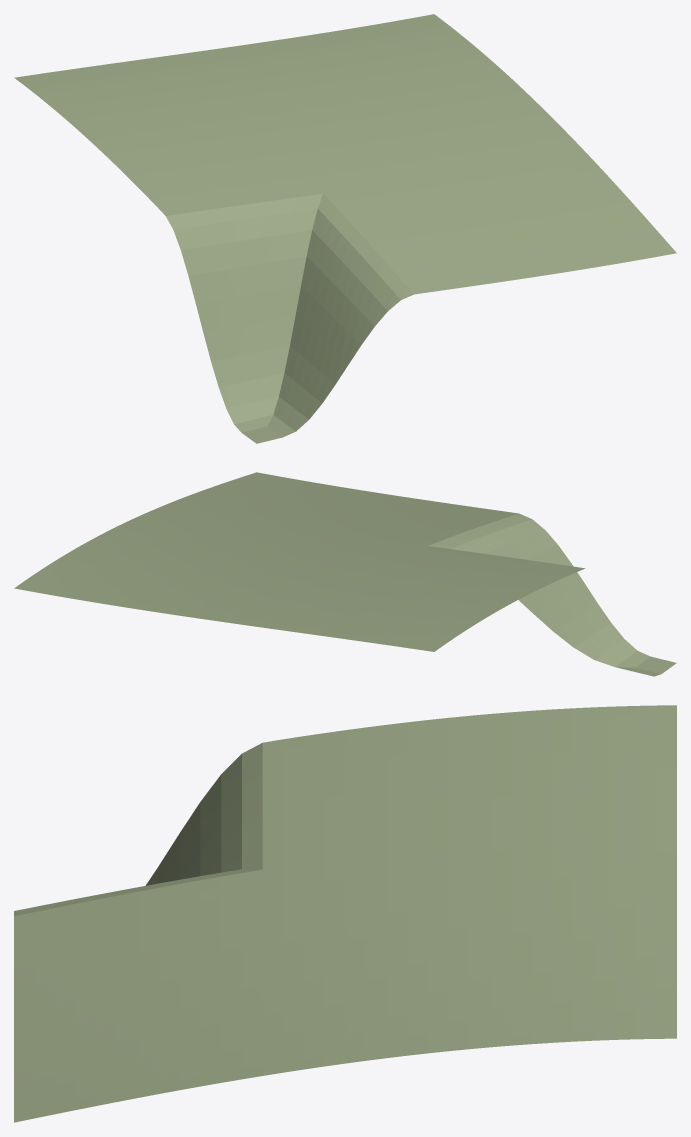
Rendered from valley-3-1.glb.
3 renders of one model, top to bottom at view 1: azimuth 30°, elevation 25°; view 2: azimuth 150°, elevation 25°; view 3: azimuth 270°, elevation 25°, orthographic. The views are drawn at different scales.
Visible parts, largest first — view 1: valley-3-1; view 2: valley-3-1; view 3: valley-3-1.
Boxes of the visible parts, x1,y1,x2,y2 form: valley-3-1: (14, 14, 676, 443); valley-3-1: (14, 472, 676, 676); valley-3-1: (14, 705, 676, 1122).
Bounding box in the file's own units: 256 × 110 × 256.
